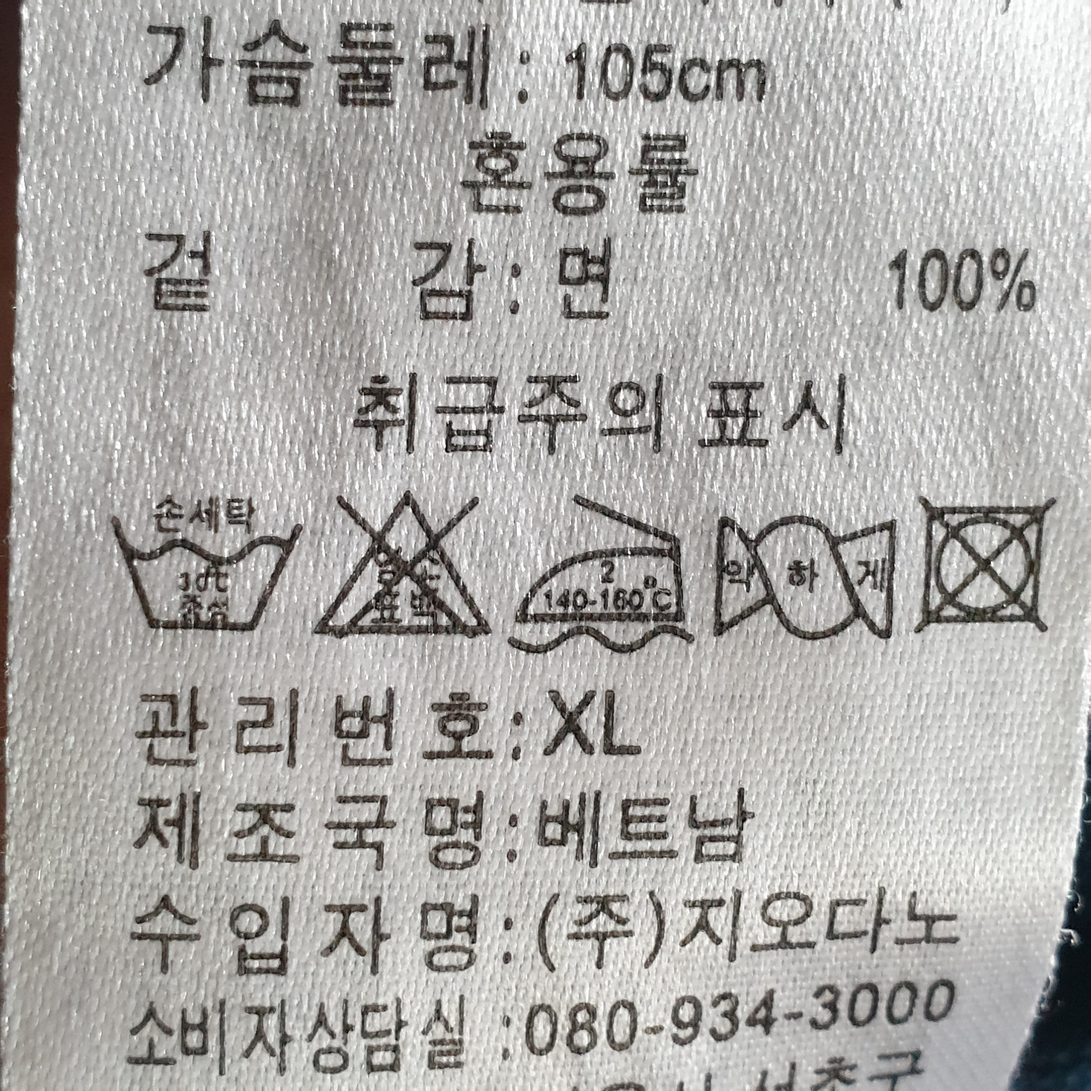KR_gentle_wring: (709, 505, 902, 656)
KR_hand_wash_30_neutral: (96, 473, 299, 645)
KR_iron_medium_temp_with_cloth: (495, 478, 692, 664)
KR_no_chlorine_bleach: (312, 486, 493, 648)
KR_no_tumble_dry: (910, 482, 1054, 645)
